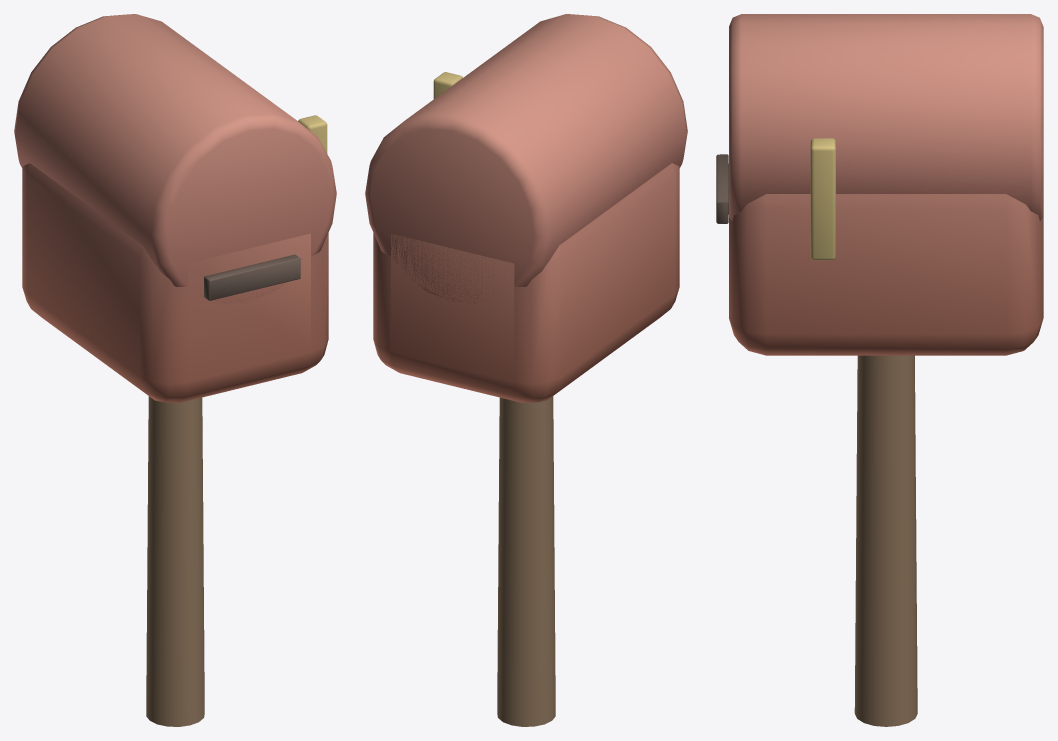
The model's file is mailbox.glb.
3 renders of one model, left to right at view 1: azimuth 30°, elevation 25°; view 2: azimuth 150°, elevation 25°; view 3: azimuth 270°, elevation 25°, orthographic. The views are drawn at different scales.
Parts seen in each view (by area): view 1: mailbox; view 2: mailbox; view 3: mailbox.
Part boxes in pixels (x1=…): mailbox: x1=14, y1=14, x2=336, y2=726; mailbox: x1=365, y1=14, x2=687, y2=726; mailbox: x1=716, y1=14, x2=1043, y2=726.
Bounding box in the file's own units: 0.41 × 1.21 × 0.5198.
